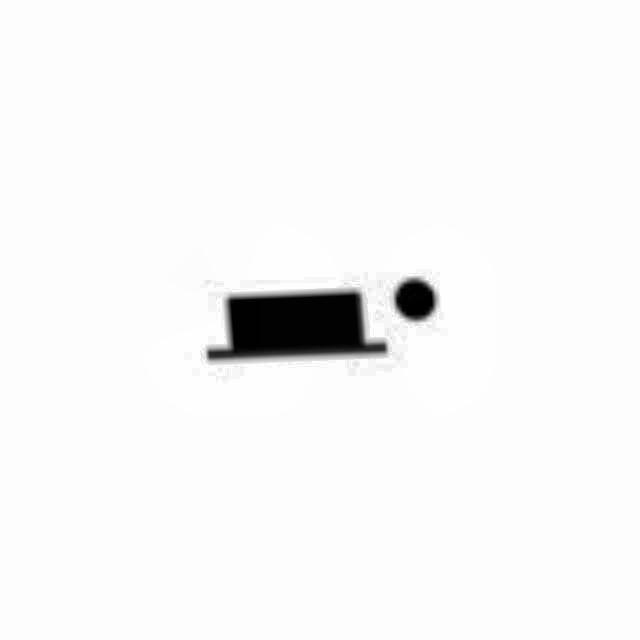Half-rest: (164, 264, 456, 380)
